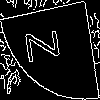Z: (25, 25, 69, 64)
